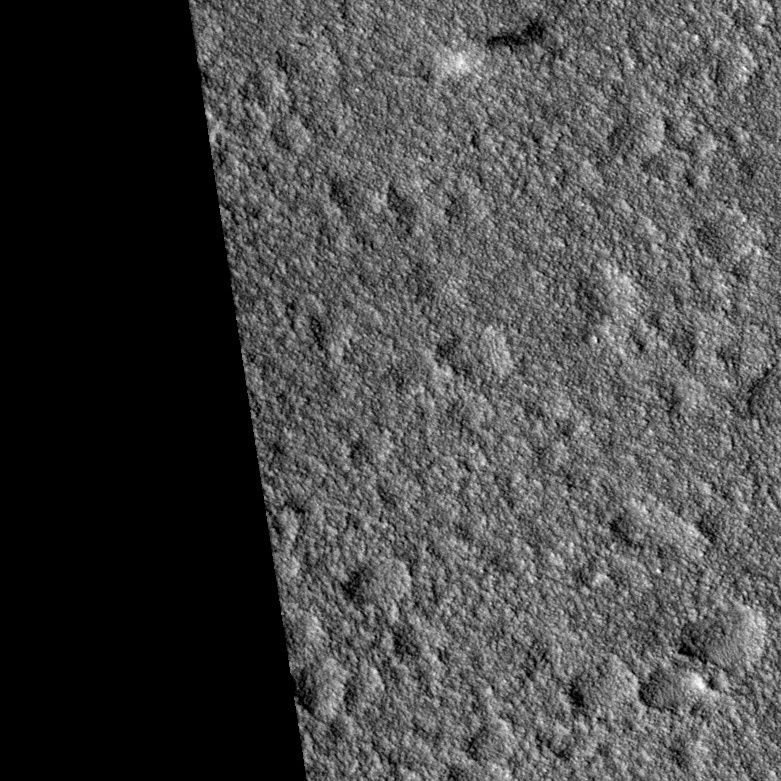dust_devil: (434, 10, 552, 79)
